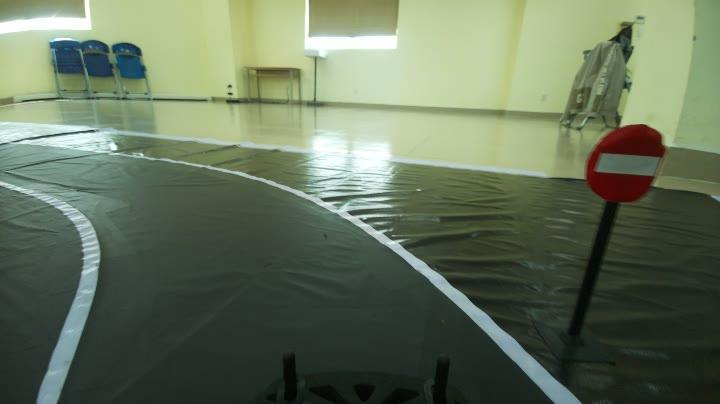no_entry: (584, 120, 671, 208)
